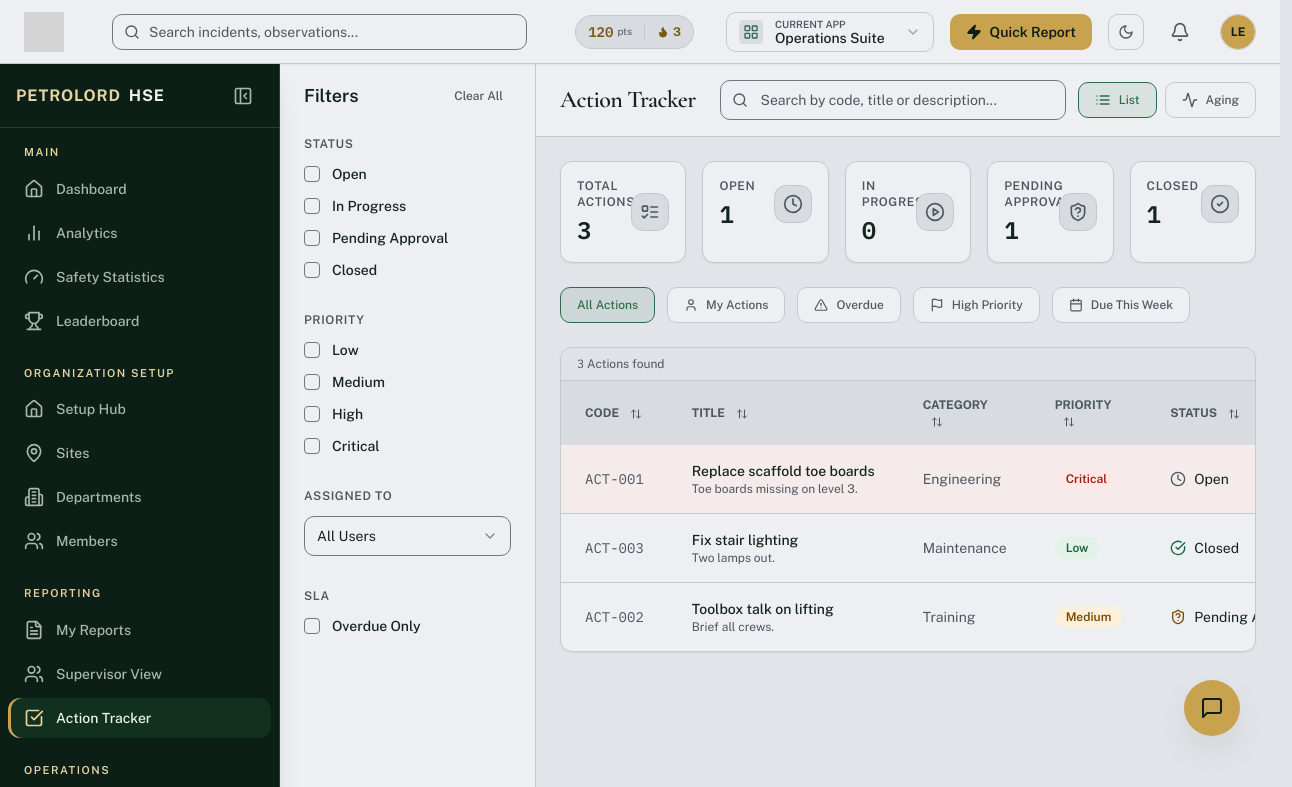
Test: Action Tracker › further states › shows priority as status badges, the overdue row with its word, and the chips on roles
Expected: the text "Replace scaffold toe boards" is shown, [692, 461, 875, 481]
Click the button "High Priority" at (976, 305), box [913, 287, 1040, 323]
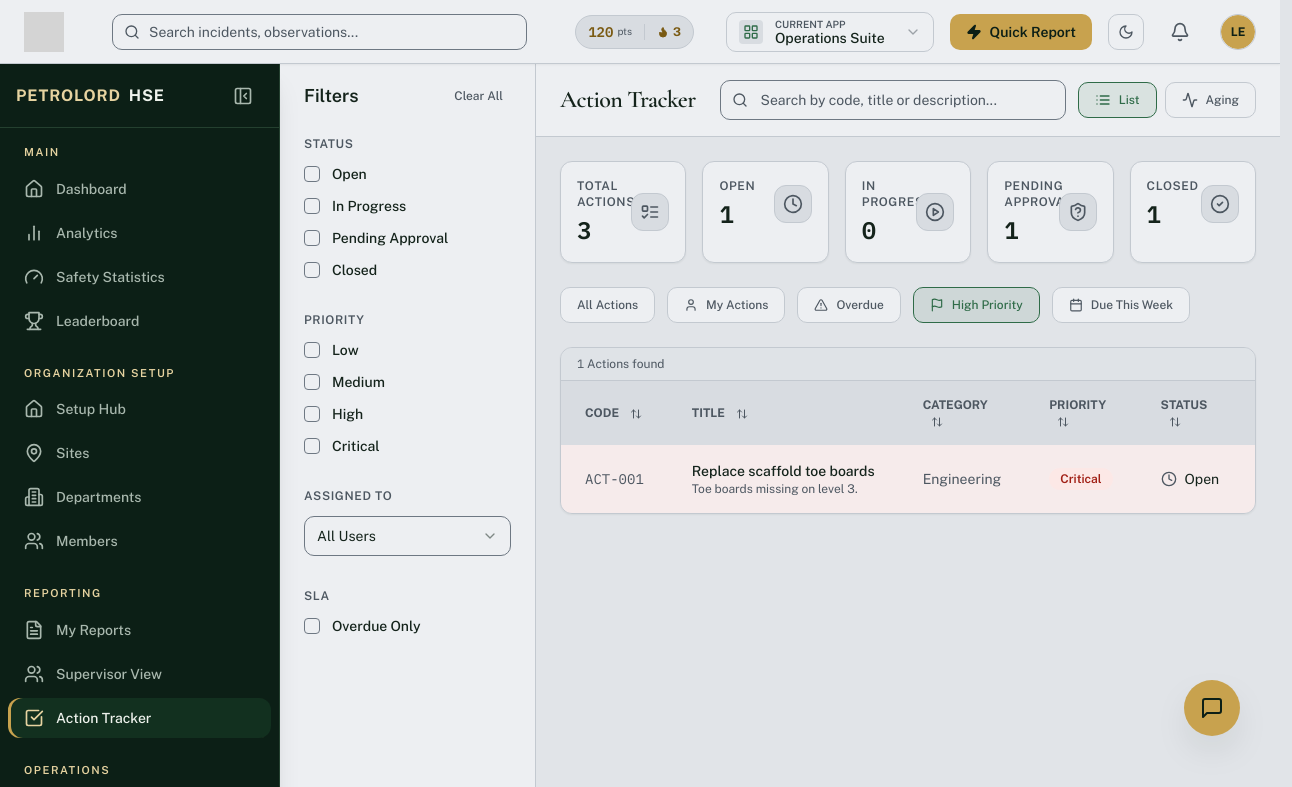
Expected: the text "Fix stair lighting" is gone
